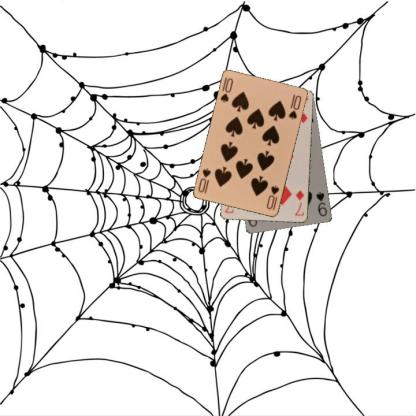10s: (264, 182, 280, 212), (218, 76, 234, 104)
7d: (292, 188, 306, 217)
9s: (314, 189, 328, 218)
